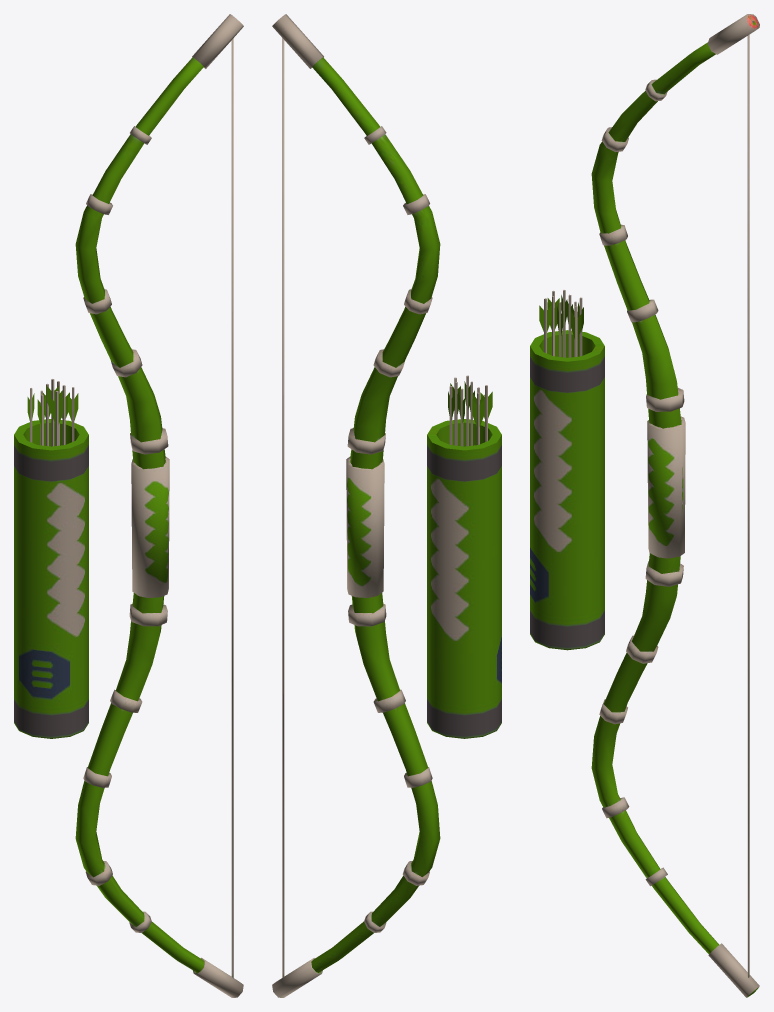
File: bow-01.obj
3 renders of one model, left to right at view 1: azimuth 30°, elevation 25°; view 2: azimuth 150°, elevation 25°; view 3: azimuth 330°, elevation 25°, orthographic.
Visible parts, largest first — view 1: LOW_BOW_USE, Object001; view 2: LOW_BOW_USE, Object001; view 3: LOW_BOW_USE, Object001.
Boxes of the visible parts, box(x1,y1,x2,y2) form: LOW_BOW_USE: box(75, 14, 243, 997); Object001: box(14, 379, 88, 738); LOW_BOW_USE: box(272, 14, 440, 997); Object001: box(427, 375, 501, 738); LOW_BOW_USE: box(591, 14, 759, 997); Object001: box(530, 290, 604, 650).
Size of the model in its own units: 14.55 by 61.37 by 4.23.
